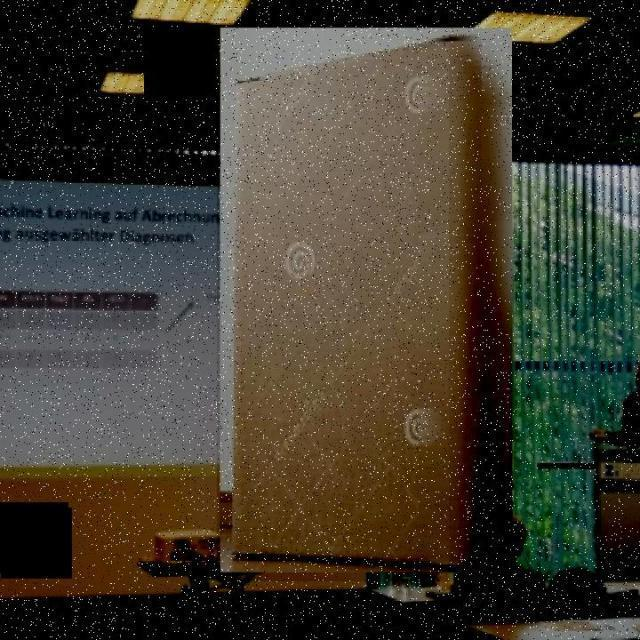box: (217, 21, 517, 582)
